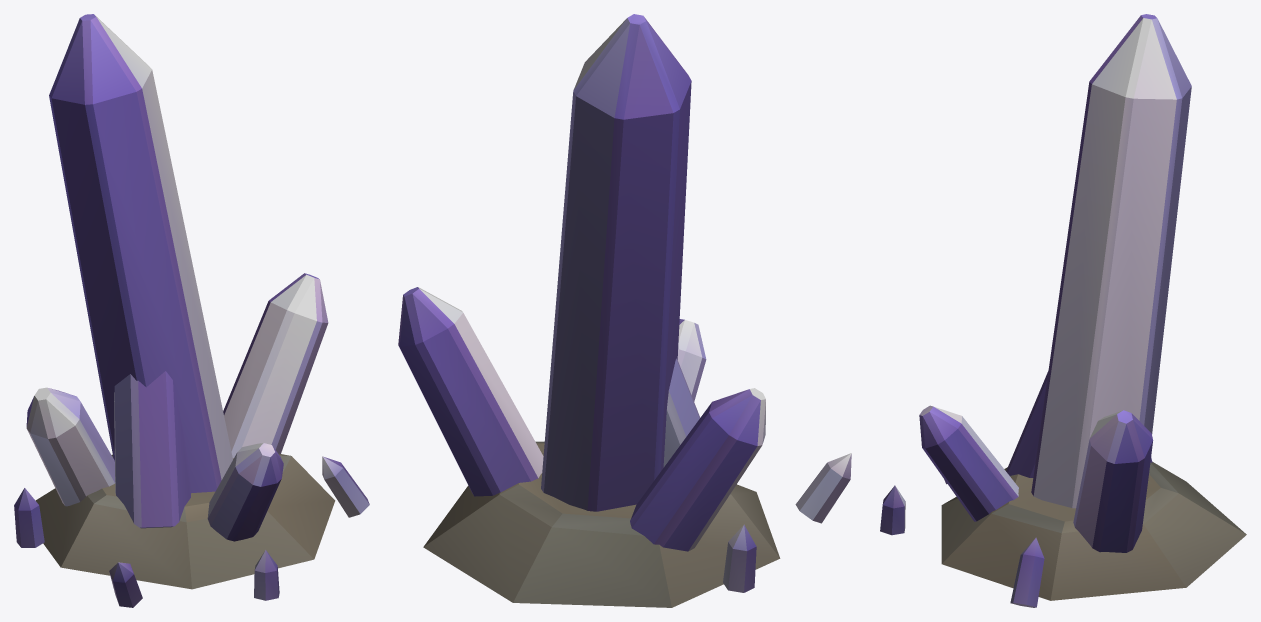
The model's file is glass-crystals-2.glb.
3 views of the same model, side by side, from view 1: azimuth 30°, elevation 25°; view 2: azimuth 150°, elevation 25°; view 3: azimuth 270°, elevation 25° (orthographic). The views are drawn at different scales.
Visible parts, largest first — view 1: glass-crystals-2; view 2: glass-crystals-2; view 3: glass-crystals-2.
Part boxes in pixels (left/top/right/bottom): glass-crystals-2: left=14, top=14, right=369, bottom=607; glass-crystals-2: left=398, top=14, right=851, bottom=607; glass-crystals-2: left=880, top=14, right=1246, bottom=607.
Bounding box in the file's own units: 0.7453 × 1.16 × 0.7766.
